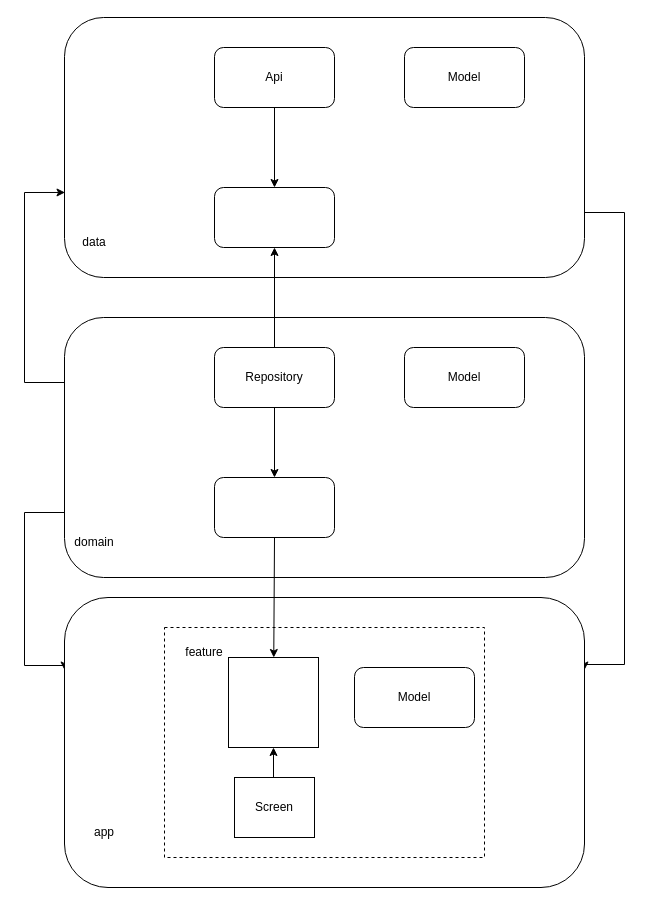
Image size: 650x905. Some labels were removed from this diagram. Here are the shapes that lost their labels. From the top down, the centre of each, then its label:
At pixel 274 217: "RepositoryImpl".
At pixel 274 507: "UseCase".
At pixel 273 702: "ViewModel".
